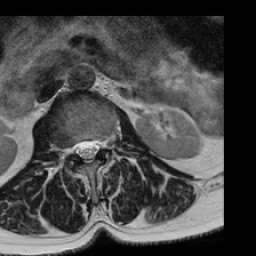CCS_normal: (83, 131, 91, 171)
LFS_normal: (100, 129, 108, 157)
LLS_normal: (91, 131, 100, 163)
RFS_normal: (66, 137, 75, 163)
RLS_normal: (75, 133, 83, 163)
